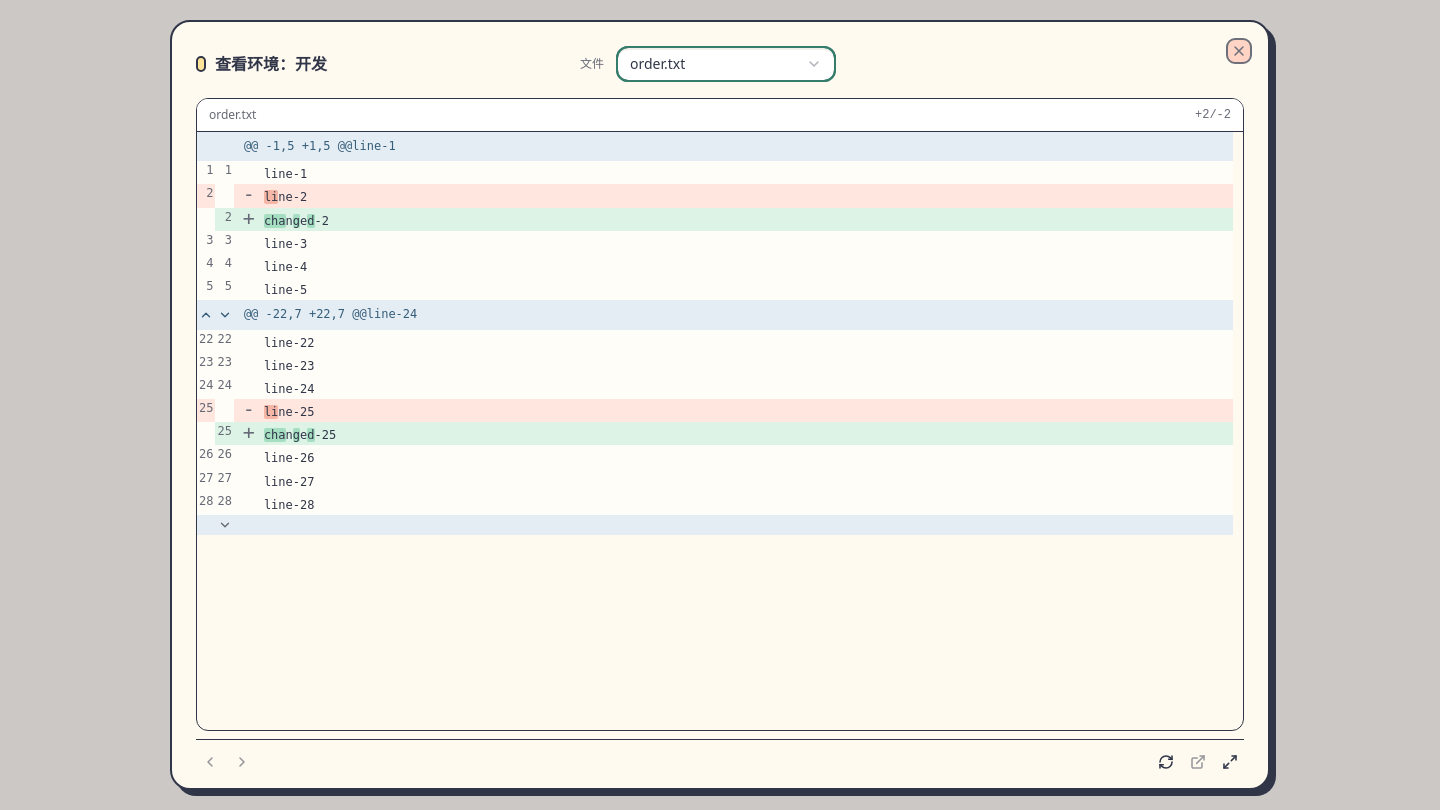
Test: EnvironmentDiffDialog › keeps expanded middle gap rows before the marker and header before its hunk rows
The image size is (1440, 810).
Step 1. Click the button named "向上展开10行" → coordinates (206, 315), box [197, 305, 215, 325]
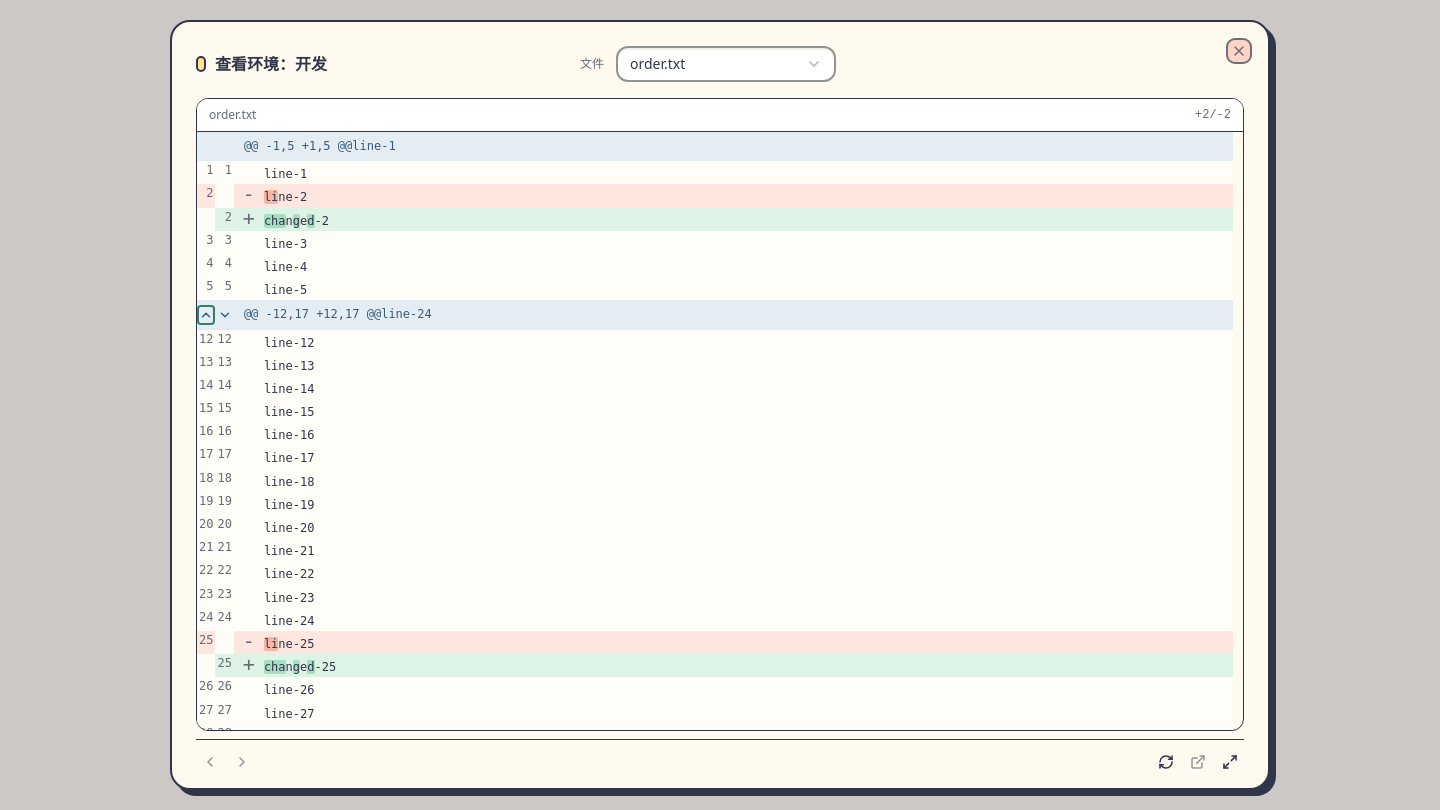
Check: the row with test id "environment-diff-hunk-header" reads "@@ -12,17 +12,17 @@ line-24", box [197, 300, 1233, 330]
